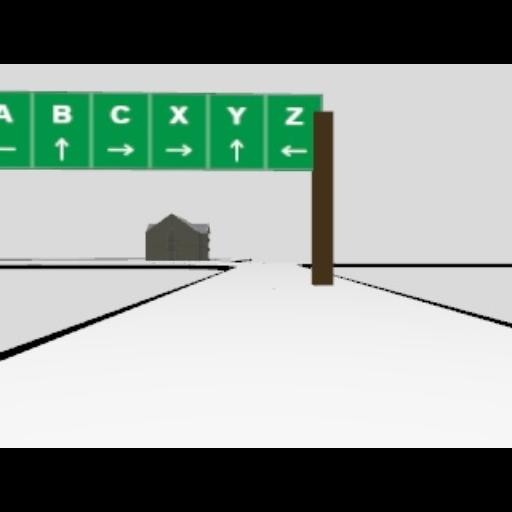A: (0, 102, 12, 124)
B: (52, 104, 72, 124)
C: (110, 104, 130, 124)
Left: (278, 144, 308, 156)
Right: (106, 142, 134, 156), (164, 144, 194, 156)
Straight: (229, 138, 243, 162), (55, 136, 69, 160)
X: (168, 104, 188, 124)
Y: (226, 106, 246, 124)
Z: (284, 106, 304, 124)
